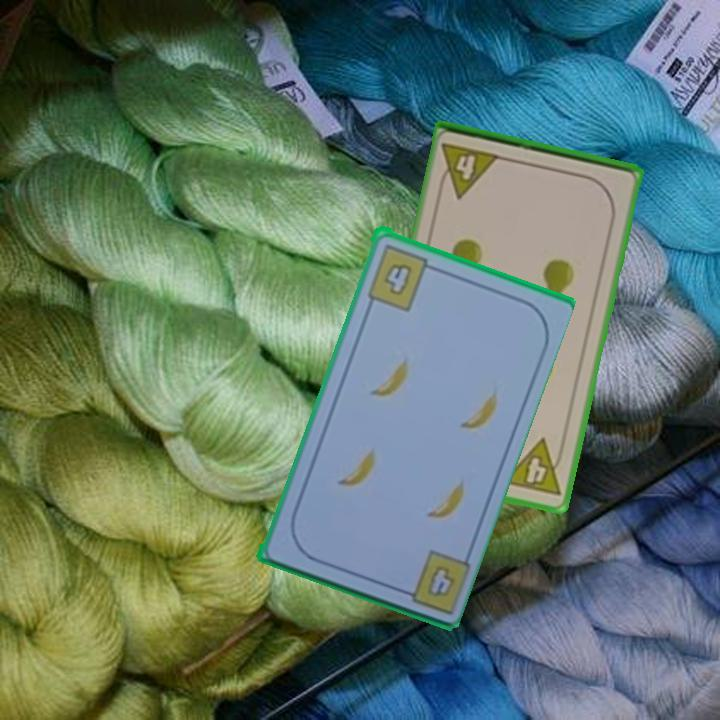4b: (392, 545, 471, 617), (363, 239, 438, 313)
4p: (498, 435, 569, 500), (434, 139, 503, 201)
